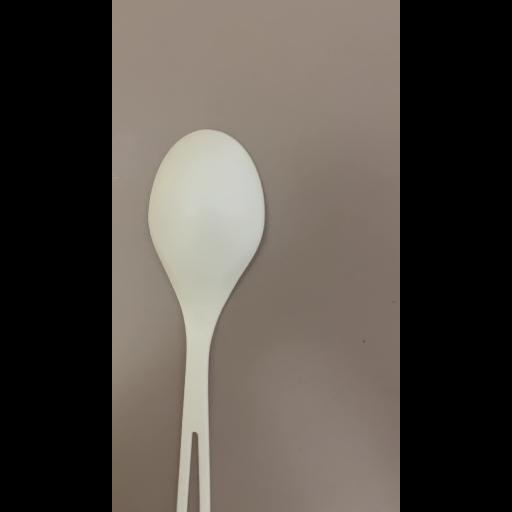utensil: (112, 118, 272, 512)
